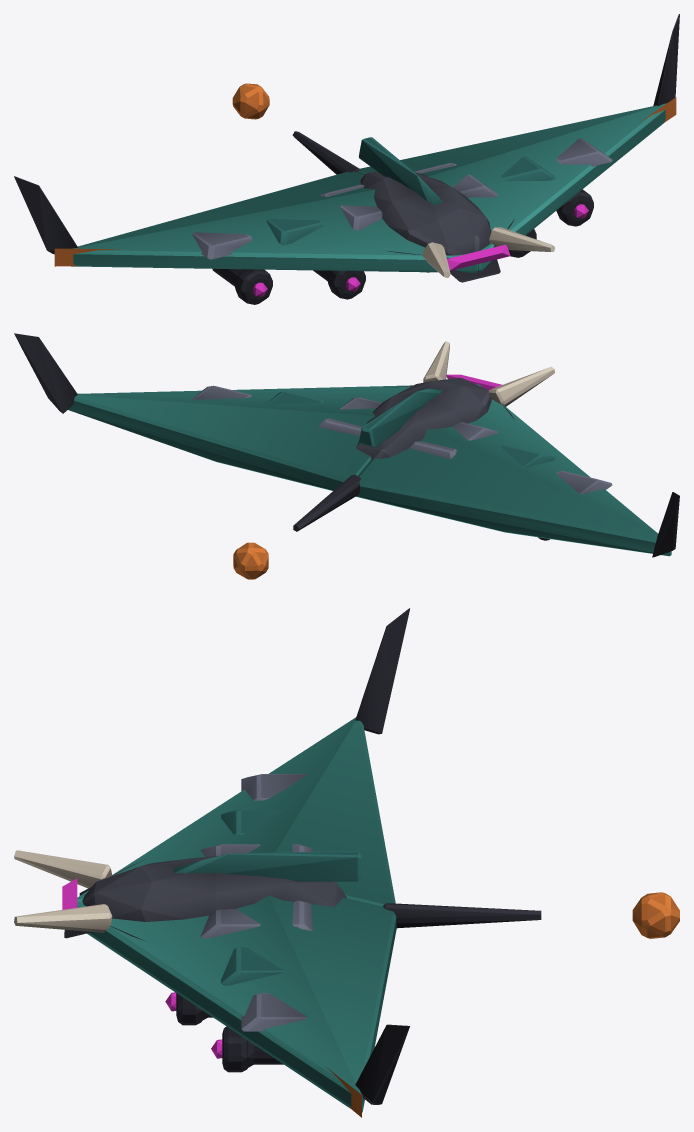
Rendered from manta.glb.
3 renders of one model, top to bottom at view 1: azimuth 30°, elevation 25°; view 2: azimuth 150°, elevation 25°; view 3: azimuth 270°, elevation 25°, orthographic. The views are drawn at different scales.
Visible parts, largest first — view 1: manta_body, manta_glow; view 2: manta_body; view 3: manta_body, manta_glow.
Part boxes in pixels (left/top/right/bottom): manta_body: left=14, top=14, right=679, bottom=304; manta_glow: left=253, top=204, right=588, bottom=296; manta_body: left=14, top=333, right=679, bottom=579; manta_body: left=14, top=608, right=679, bottom=1117; manta_glow: left=62, top=878, right=222, bottom=1058.
Size of the model in its own units: 19.5 by 3.42 by 13.12.
